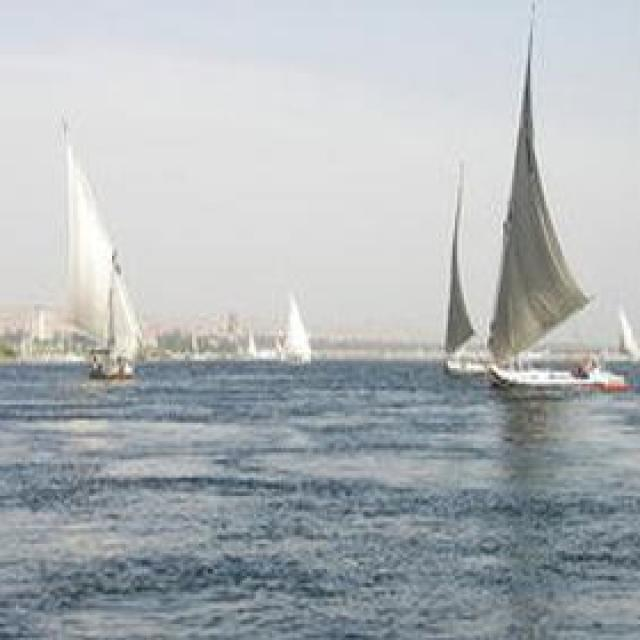sailboat: (484, 22, 616, 392), (26, 146, 177, 378), (432, 152, 490, 392)
